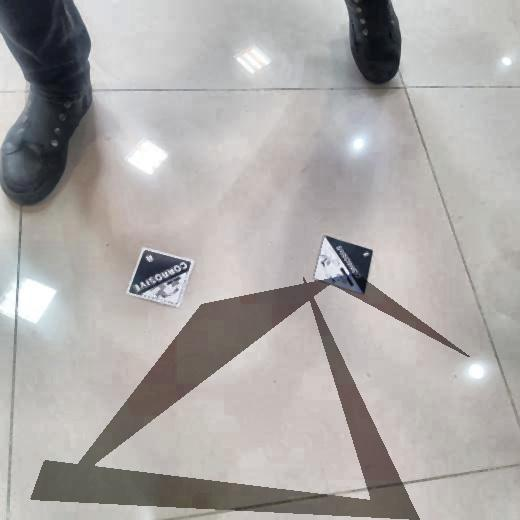corrosive: (314, 235, 374, 294), (128, 251, 191, 307)
